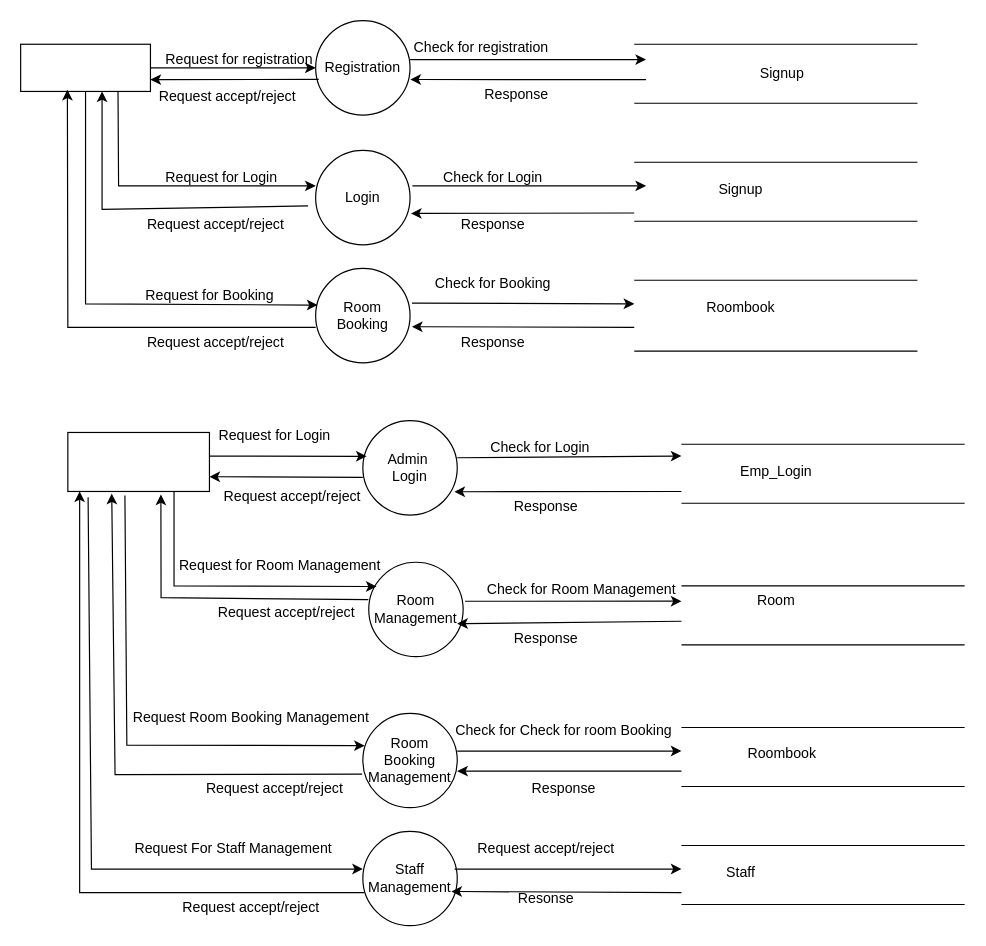
The diagram is 986 pixels wide and 946 high, and some of its shapes have lost their labels. Here are the shapes that lost their labels. From the top down, the box of each, then its label:
(19, 43, 150, 91): User
(67, 431, 209, 491): Admin
